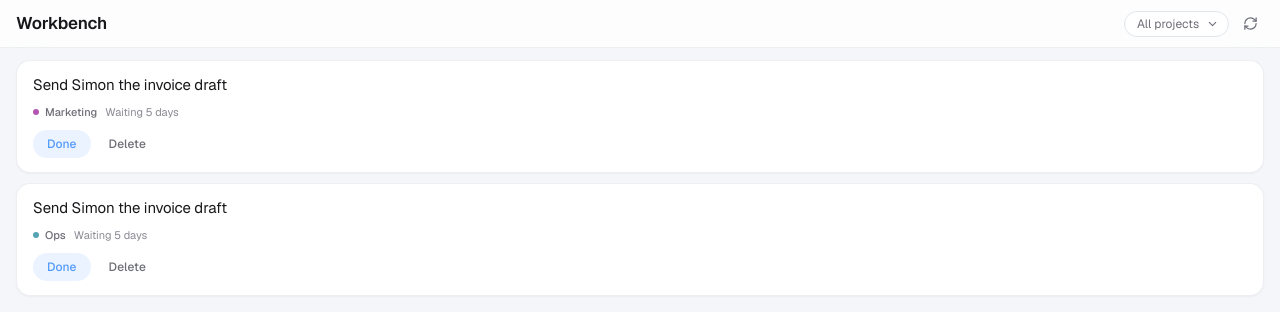
WorkbenchPage — project filter (round 3, item 2) › selecting a project filters the card list to that project only
Select "Ops" in the dropdown with test id "workbench-project-filter" at (1176,24), box [1124,10,1229,36]
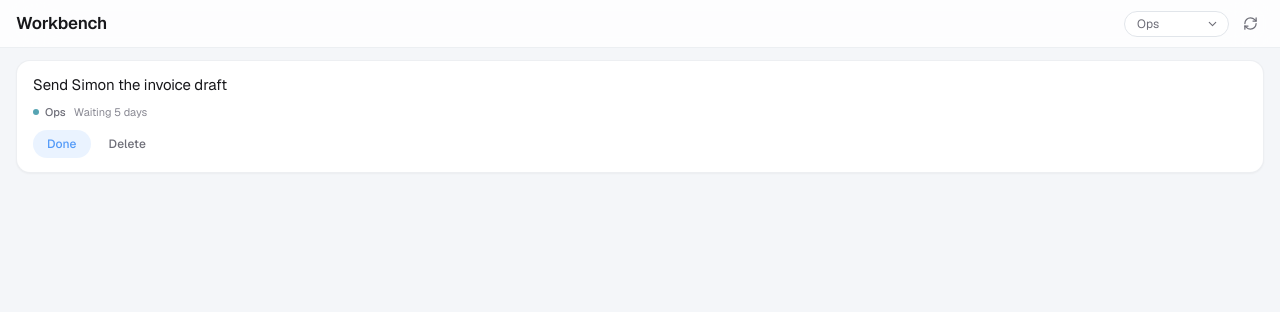
Check: the button with test id "workbench-card-entry-proj-b-b1" is shown, box [16,60,1264,173]
Check: the button with test id "workbench-card-entry-proj-a-a1" is gone
